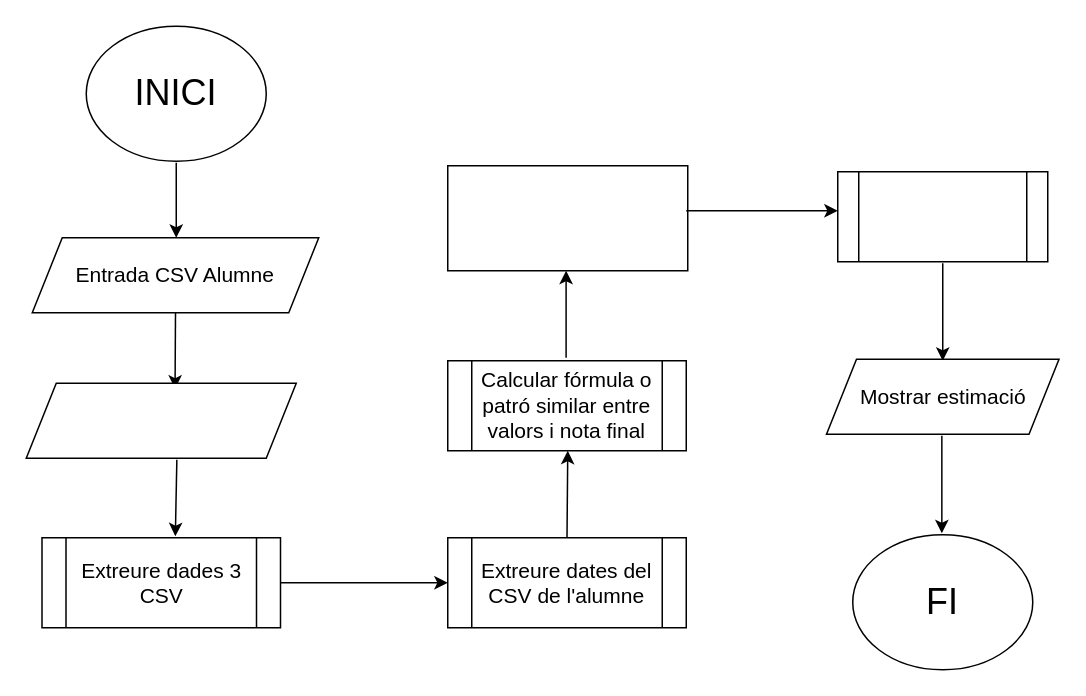
Some shapes in this 1086 by 696 pixel diagram are drawn without their labels. The shapes that lost their labels are listed below. From the top down, each one's box as (x1, y1, x2, y2) in pixels, then its label:
(446, 164, 688, 271): Comparar patrons segons assignatures i altres
(836, 170, 1048, 262): Calcular aproximació estimado
(25, 382, 296, 458): Entrada dels 3 CSV
